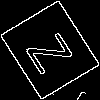Z: (25, 25, 82, 76)
